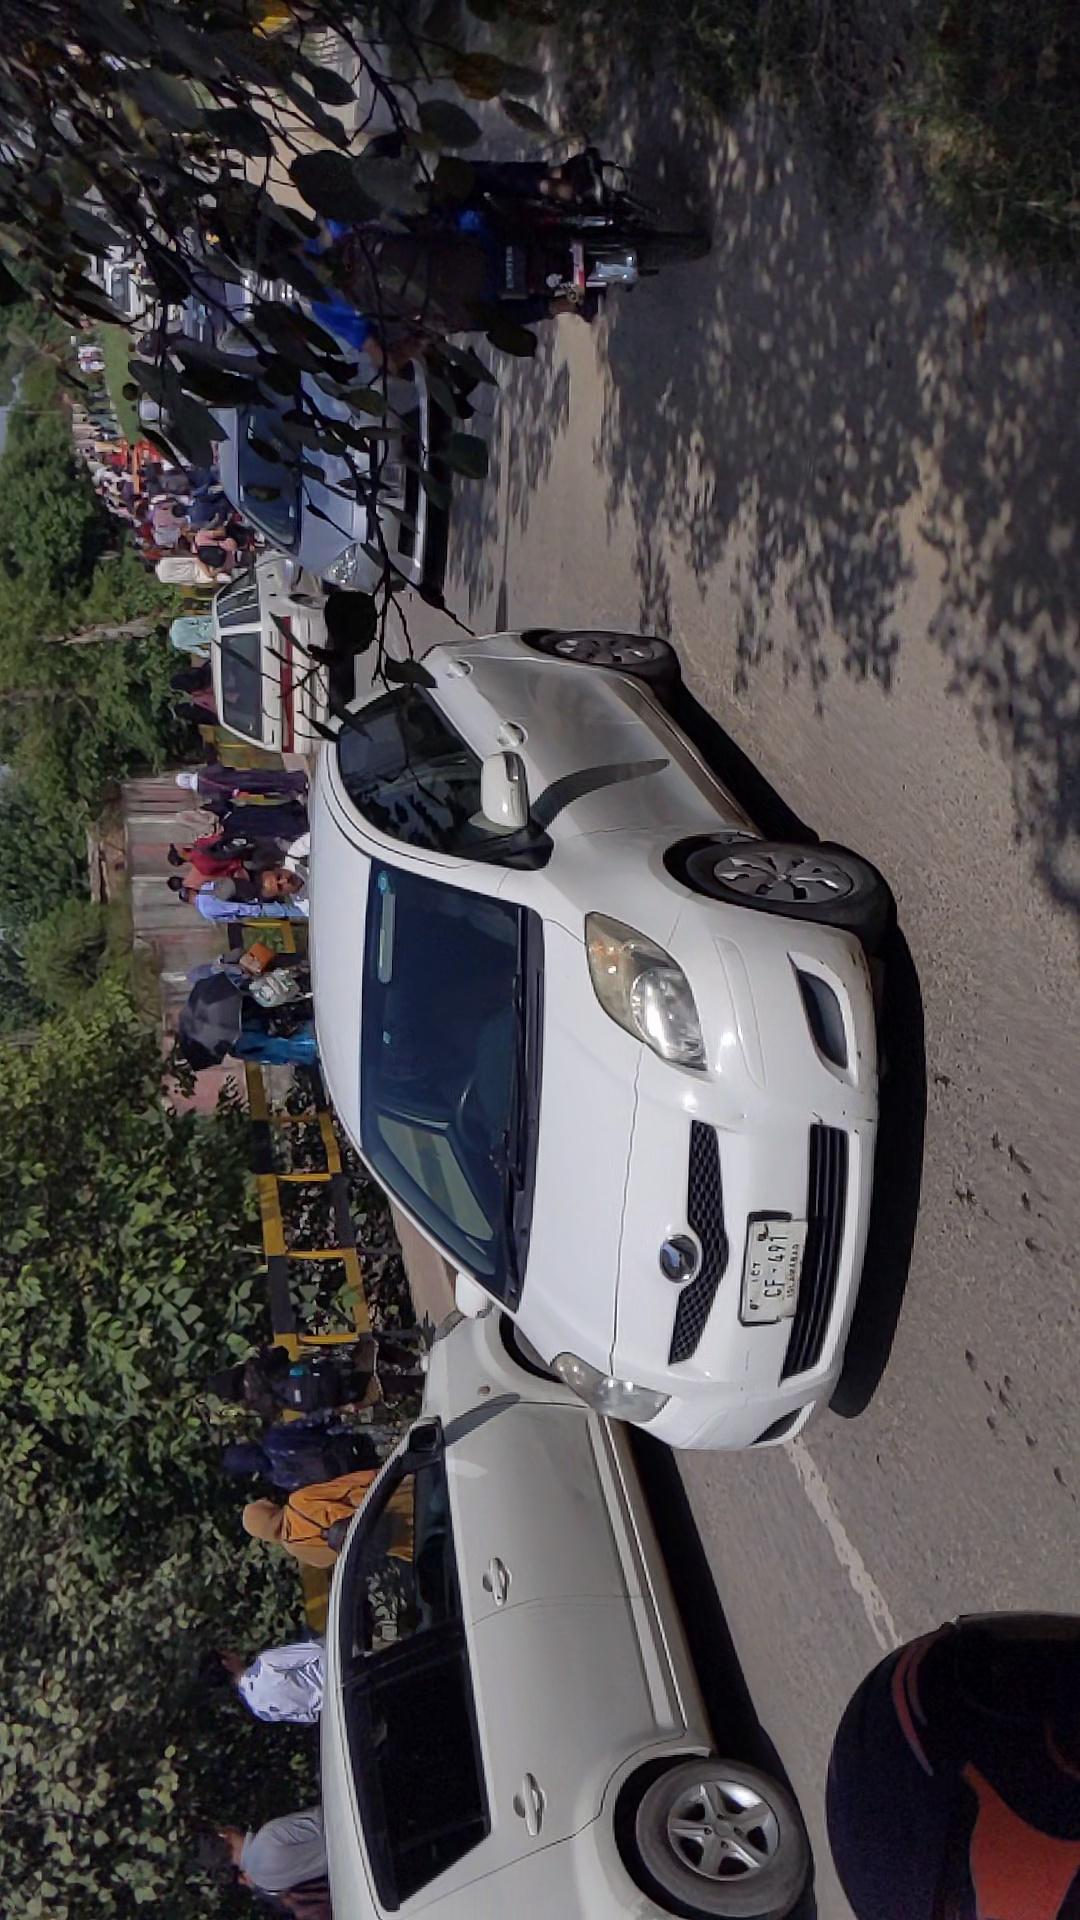windshield: (332, 604, 599, 1019)
